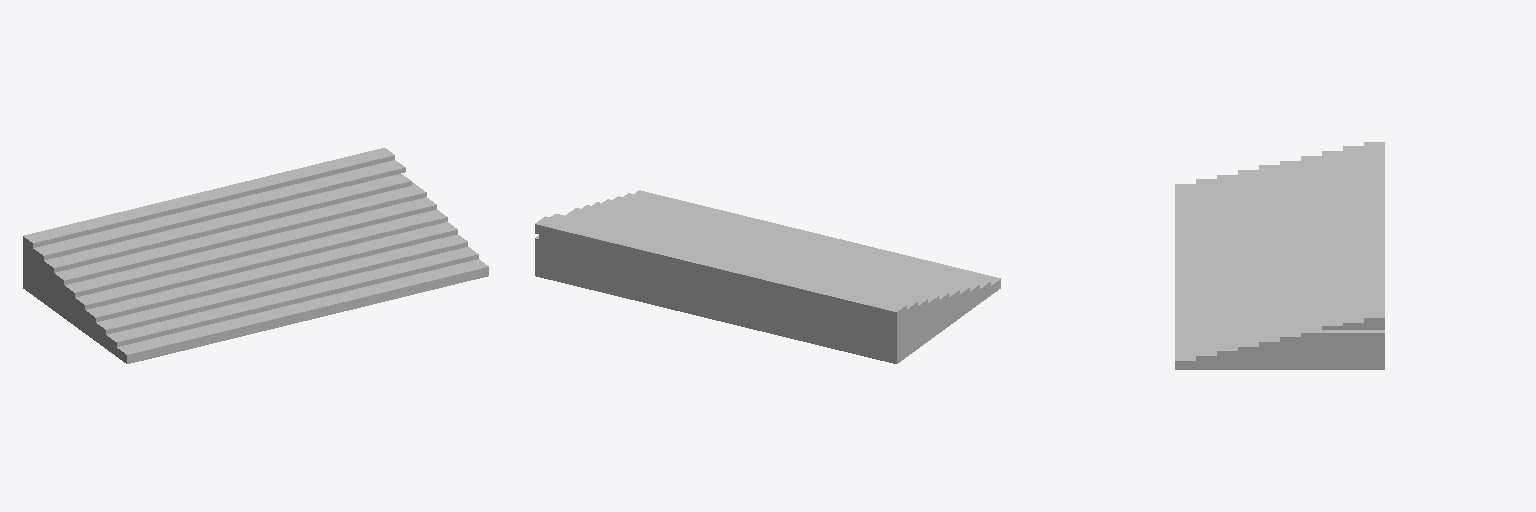
File: stairs.obj
3 renders of one model, left to right at view 1: azimuth 30°, elevation 25°; view 2: azimuth 150°, elevation 25°; view 3: azimuth 270°, elevation 25°, orthographic.
Parts seen in each view (by area): view 1: object 1; view 2: object 1; view 3: object 1.
Part boxes in pixels (x1,y1,x2,y2): object 1: (23,148,488,363); object 1: (535,190,1000,363); object 1: (1175,142,1384,369).
Bounding box in the file's own units: 8 × 1.1 × 4.